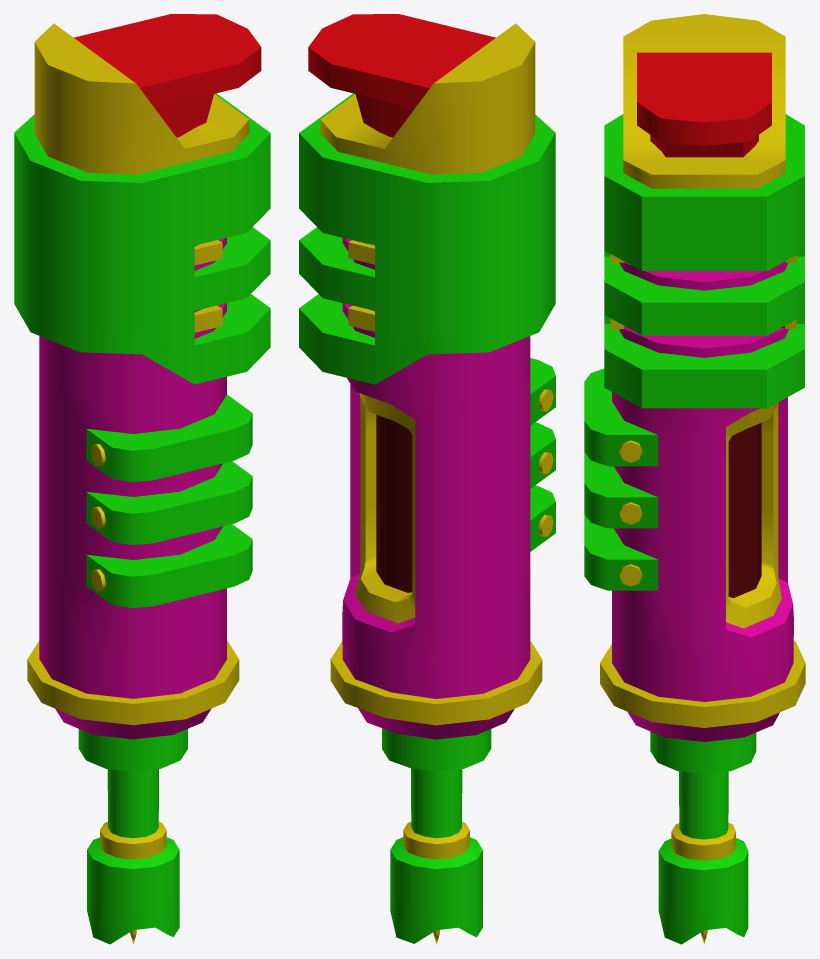
Rendered from meshX4.fbx.
3 renders of one model, left to right at view 1: azimuth 30°, elevation 25°; view 2: azimuth 150°, elevation 25°; view 3: azimuth 270°, elevation 25°, orthographic.
Parts seen in each view (by area): view 1: Cylinder; view 2: Cylinder; view 3: Cylinder.
Part boxes in pixels (<box>): Cylinder: <box>14,14,270,944</box>; Cylinder: <box>299,14,555,944</box>; Cylinder: <box>584,14,805,944</box>.
Size of the model in its own units: 72.03 by 286 by 64.36.
